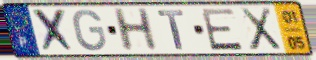E: (199, 7, 245, 52)
G: (71, 8, 109, 53)
H: (110, 7, 161, 54)
T: (156, 9, 186, 51)
X: (30, 7, 78, 54), (237, 7, 283, 53)
